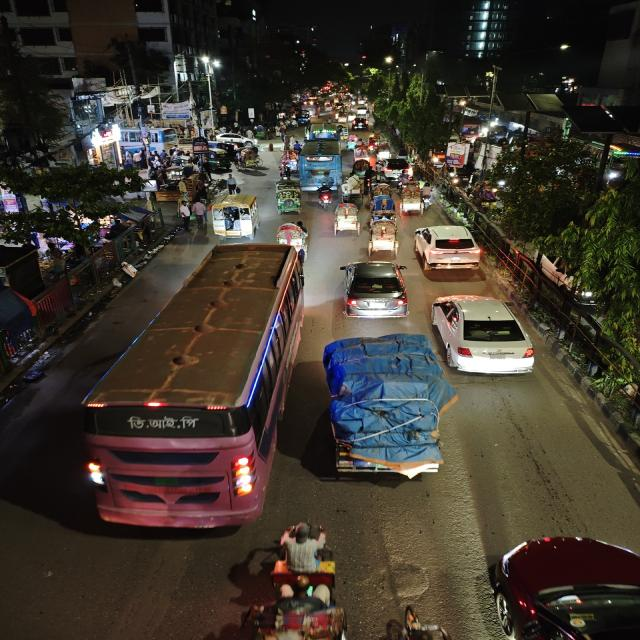bus: (78, 240, 301, 538), (300, 139, 344, 177), (306, 124, 338, 142)
car: (427, 292, 539, 381), (338, 258, 410, 324), (411, 223, 485, 271), (376, 156, 412, 179), (352, 117, 369, 130)
cng: (272, 179, 304, 216)
human_hauler: (209, 198, 262, 242)
motorcycle: (314, 182, 338, 210)
pedestrian: (186, 197, 208, 229), (221, 174, 243, 196)
pickup_van: (317, 332, 457, 488)
rickshaw: (257, 517, 351, 640), (366, 215, 400, 252), (330, 198, 362, 237), (369, 182, 396, 218), (276, 220, 309, 248), (399, 184, 424, 218), (240, 147, 265, 169), (278, 150, 299, 176), (344, 173, 363, 197)
